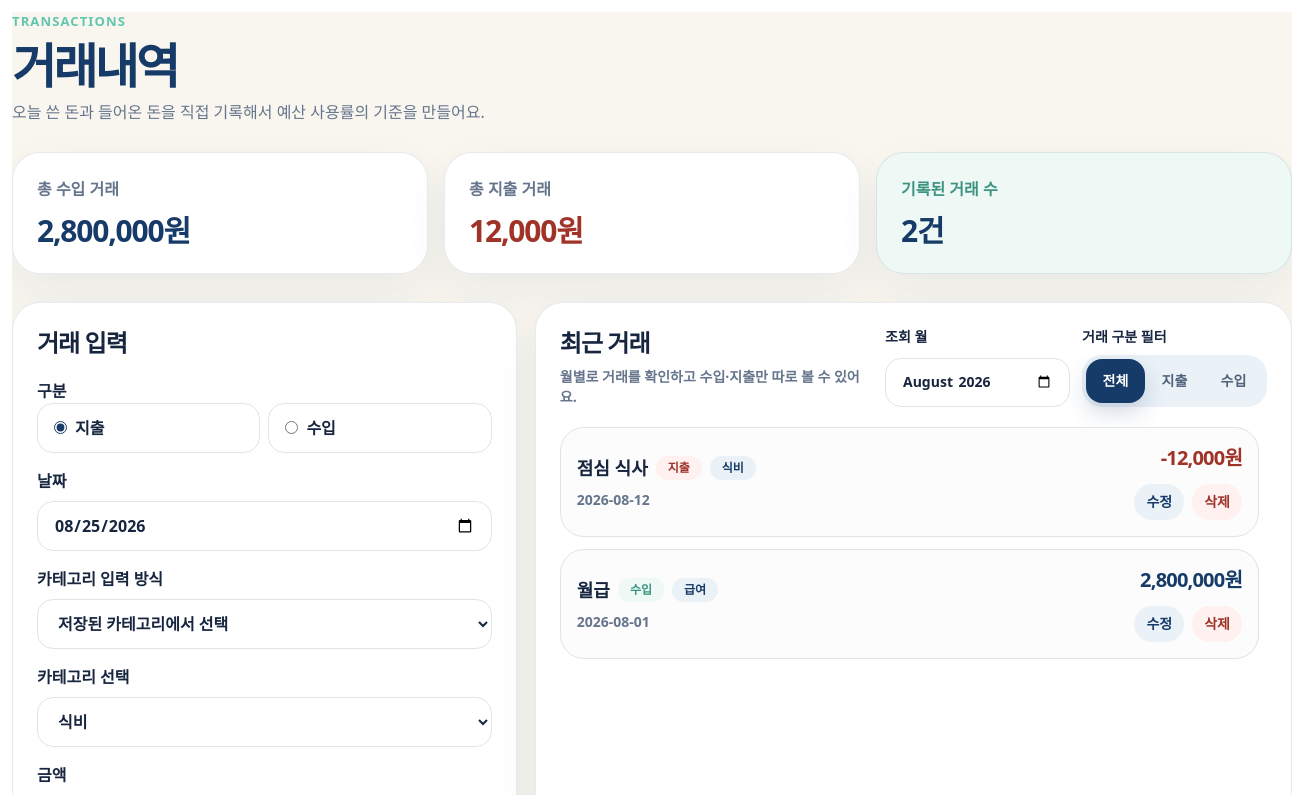
Scenario: TransactionsPage › loads categories and shows only categories matching the selected transaction kind
This screenshot has width=1292, height=795.
Expected: the text "점심 식사" is shown, x1=577 y1=454 x2=648 y2=482
Expected: the dropdown labelled "카테고리 선택" shows "식비", x1=37 y1=696 x2=492 y2=746
Click the radio button labelled "수입" at (292, 427), box x1=285 y1=420 x2=298 y2=434
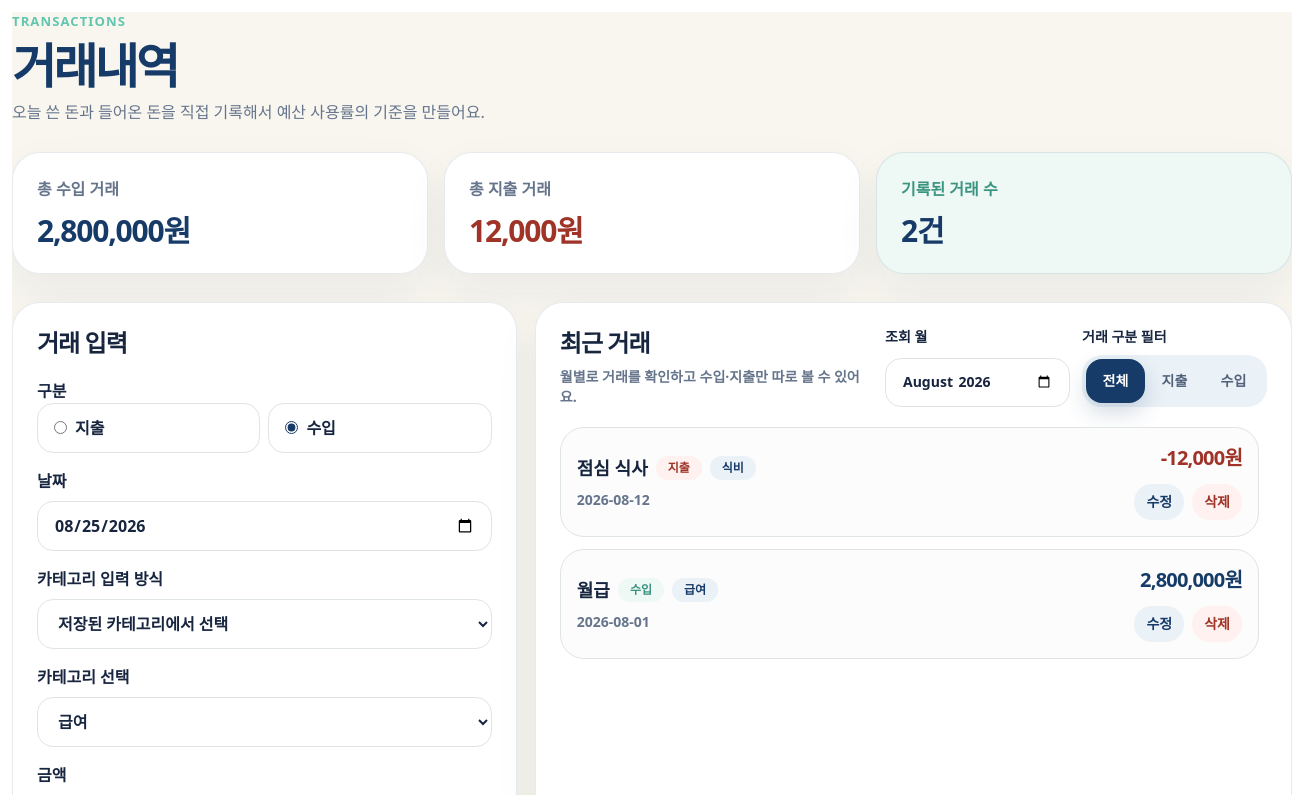
Expected: the dropdown labelled "카테고리 선택" shows "급여", x1=37 y1=696 x2=492 y2=746
